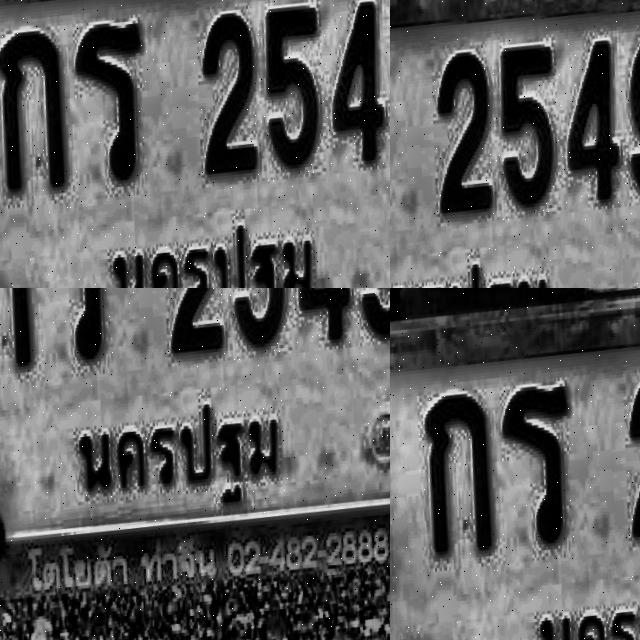license-plate: (0, 0, 390, 288), (390, 288, 640, 640), (390, 0, 540, 248), (170, 406, 253, 496)
